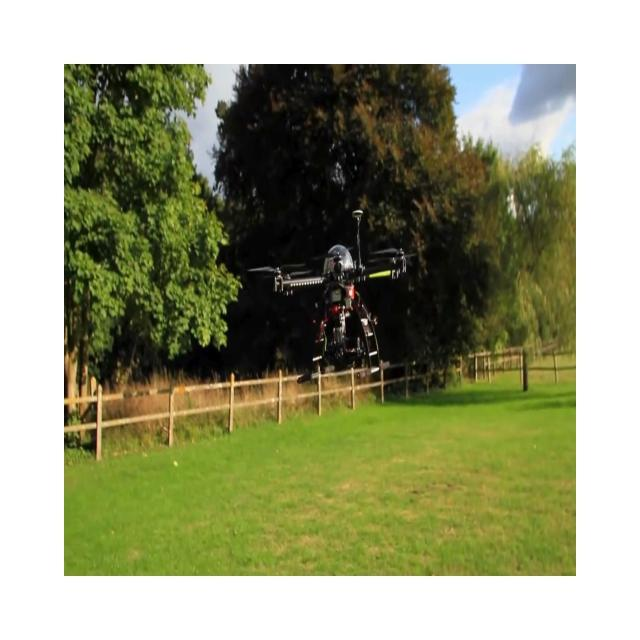drone: (246, 208, 416, 386)
